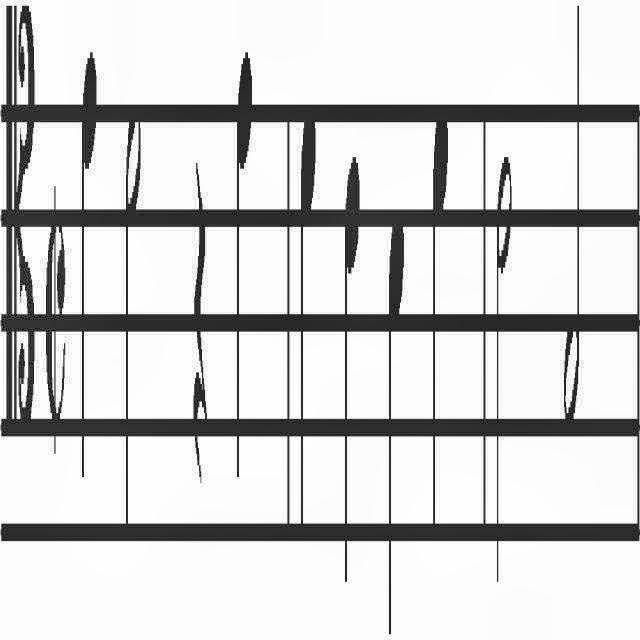Half-note: (560, 0, 584, 480), (493, 120, 517, 580), (124, 92, 146, 544)
Quarter-note: (338, 124, 367, 640), (230, 1, 258, 532), (296, 64, 320, 564), (76, 5, 100, 485), (384, 173, 408, 637), (429, 81, 451, 555)
Quarter-rest: (183, 98, 213, 536)
